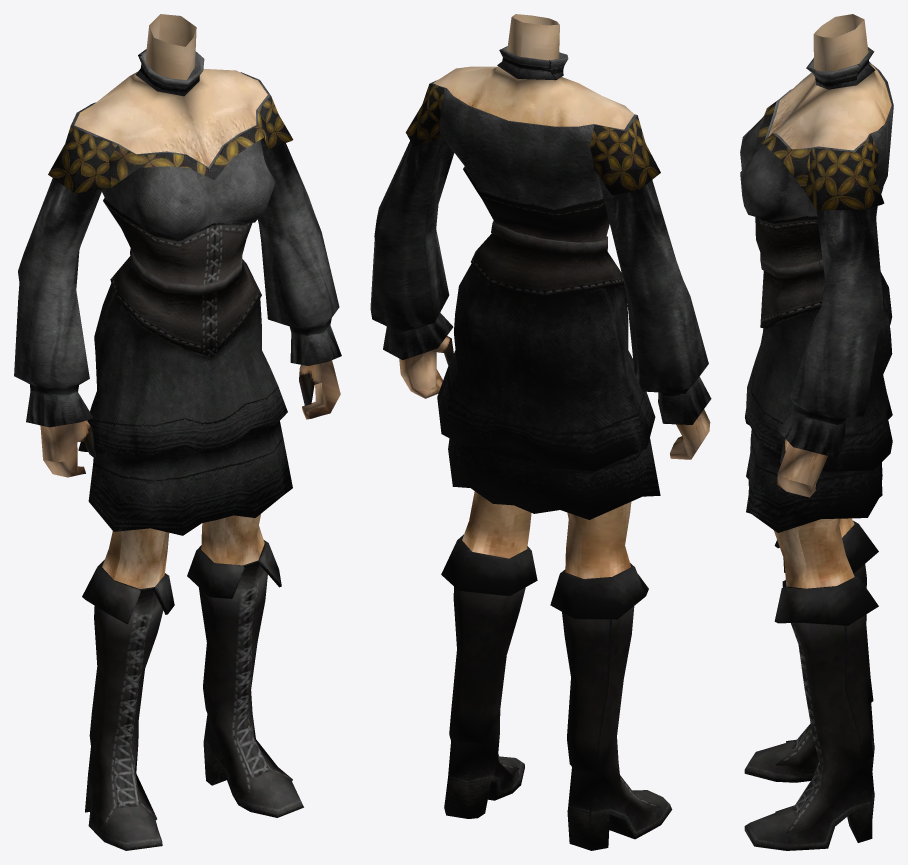
Rendered from GS_SLAV_BABE_03_KOZA.glb.
3 renders of one model, left to right at view 1: azimuth 30°, elevation 25°; view 2: azimuth 150°, elevation 25°; view 3: azimuth 270°, elevation 25°, orthographic. The views are drawn at different scales.
Parts seen in each view (by area): view 1: GS_SLAV_BABE_03_KOZA; view 2: GS_SLAV_BABE_03_KOZA; view 3: GS_SLAV_BABE_03_KOZA.
Boxes of the visible parts, x1,y1,x2,y2 form: GS_SLAV_BABE_03_KOZA: [14, 14, 341, 850]; GS_SLAV_BABE_03_KOZA: [370, 14, 711, 850]; GS_SLAV_BABE_03_KOZA: [740, 14, 893, 850].
Bounding box in the file's own units: 0.6944 × 1.67 × 0.2963.
Materials: 2 (2 with a texture image).
